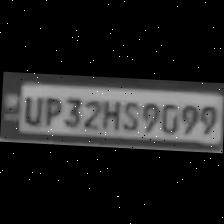0: (156, 100, 180, 134)
2: (78, 96, 100, 130)
3: (59, 95, 81, 129)
9: (177, 100, 201, 136), (195, 102, 219, 136), (138, 99, 158, 134)
H: (98, 96, 119, 132)
P: (39, 94, 61, 128)
S: (118, 97, 140, 132)
U: (17, 92, 43, 126)
